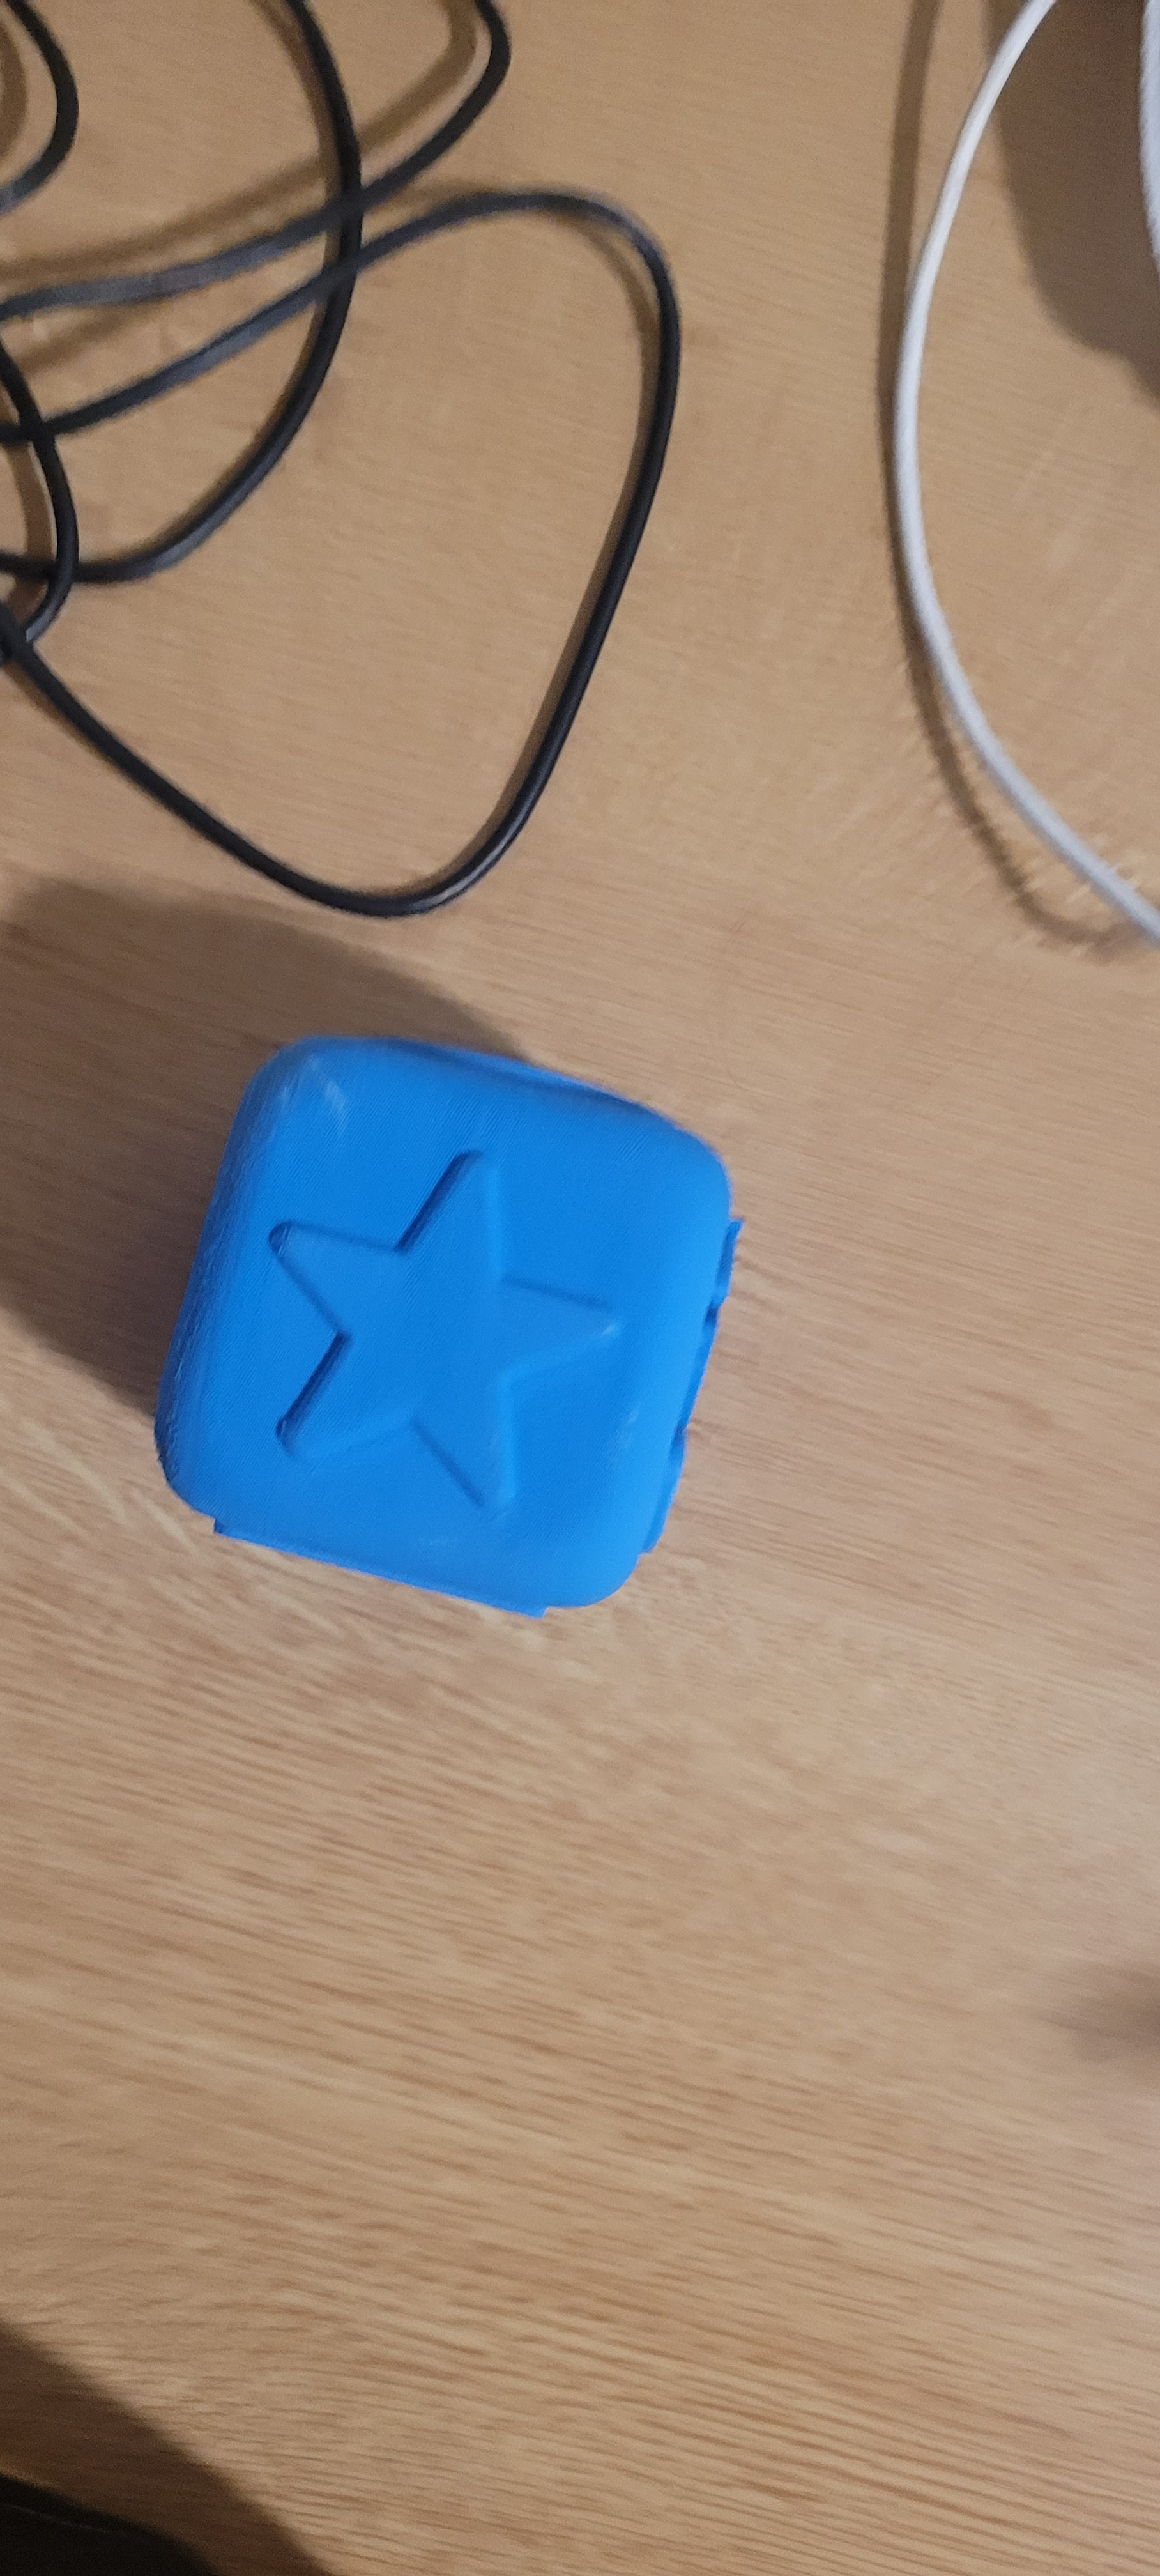Star: (204, 1040, 695, 1589)
